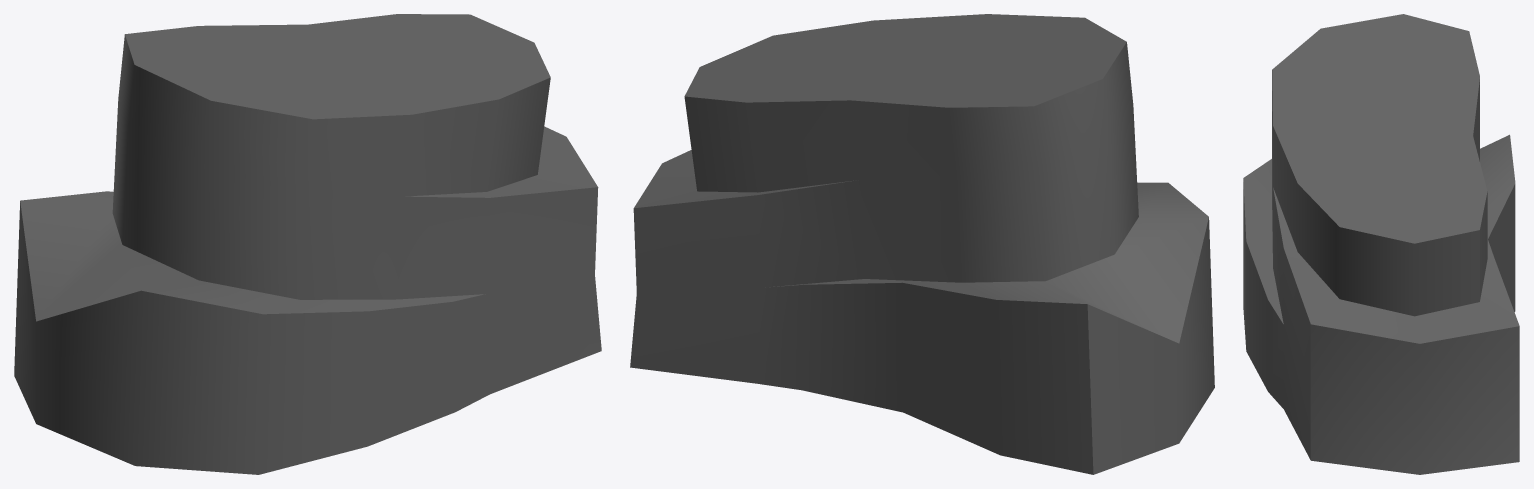
File: StoneSeat03.fbx
The picture shows the model from 3 angles, left to right: view 1: azimuth 30°, elevation 25°; view 2: azimuth 150°, elevation 25°; view 3: azimuth 270°, elevation 25°; orthographic projection. The views are drawn at different scales.
Visible parts, largest first — view 1: StoneSeat03; view 2: StoneSeat03; view 3: StoneSeat03.
Boxes of the visible parts, bbox=[...] form: StoneSeat03: bbox=[14, 14, 601, 474]; StoneSeat03: bbox=[630, 14, 1214, 474]; StoneSeat03: bbox=[1243, 14, 1519, 474].
Size of the model in its own units: 68.34 by 42.14 by 37.35.
Materials: 1 (1 with a texture image).
